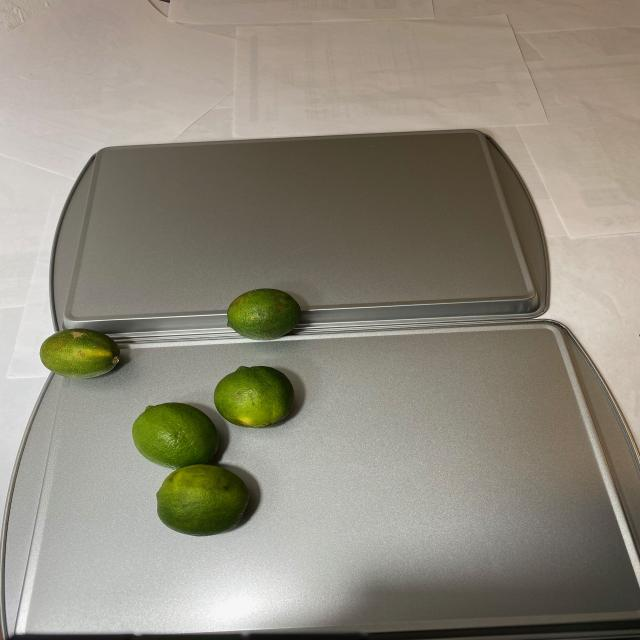lemon: (133, 280, 312, 538), (37, 330, 125, 376)
